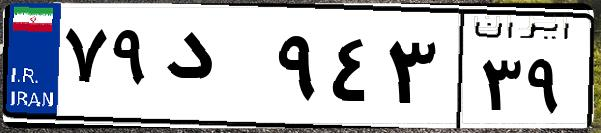3: (385, 28, 445, 110), (475, 38, 525, 113)
4: (330, 28, 385, 110)
7: (57, 26, 110, 100)
9: (270, 28, 330, 110), (525, 38, 570, 115), (110, 28, 158, 98)
د: (158, 20, 270, 120)
